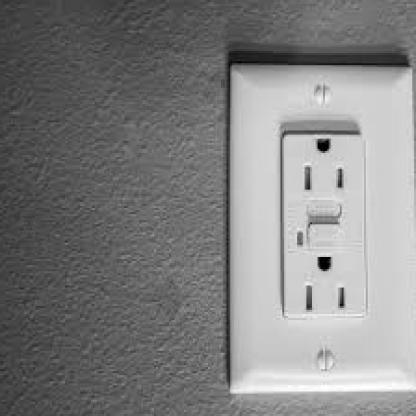OUTLET: (230, 67, 410, 396)
